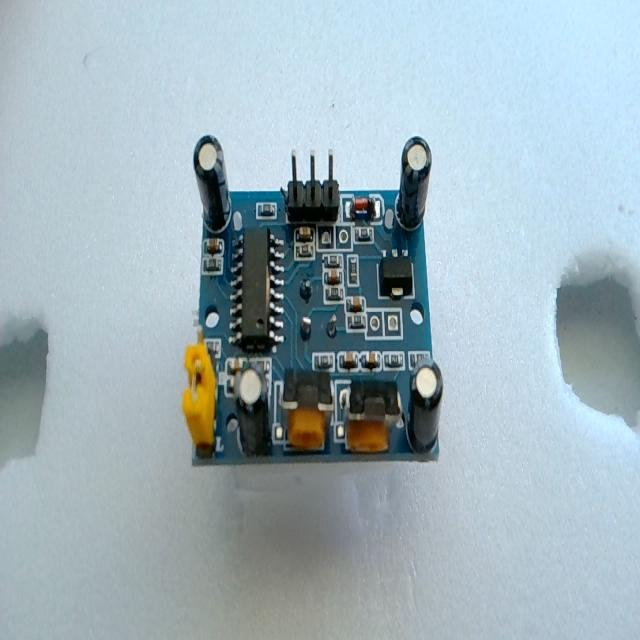Electrolytic capacitor: (193, 134, 231, 234), (232, 365, 270, 457), (396, 134, 432, 230), (408, 360, 443, 456)
IC: (229, 228, 284, 352)
pinheader: (275, 143, 347, 235)
